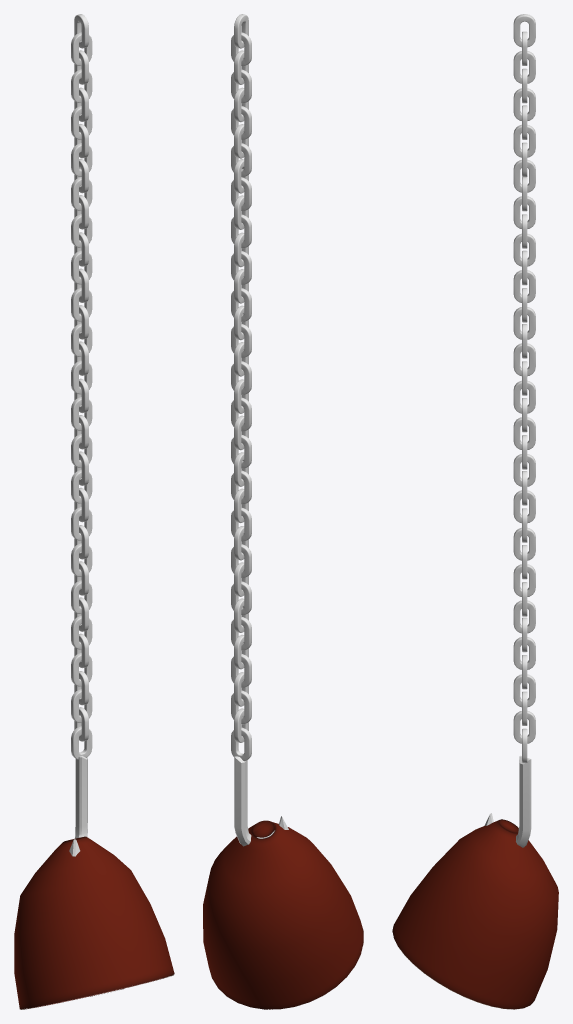
Rendered from hook_ham.fbx.
3 views of the same model, side by side, from view 1: azimuth 30°, elevation 25°; view 2: azimuth 150°, elevation 25°; view 3: azimuth 270°, elevation 25° (orthographic).
Visible parts, largest first — view 1: Cylinder.003, Cube.004, Cube.003; view 2: Cylinder.003, Cube.004, Cube.003; view 3: Cylinder.003, Cube.004, Cube.003.
Part boxes in pixels (x1,y1,x2,y2): Cylinder.003: (14, 836, 174, 1009); Cube.004: (71, 14, 92, 759); Cube.003: (69, 756, 87, 856); Cylinder.003: (203, 820, 363, 1009); Cube.004: (231, 14, 251, 761); Cube.003: (234, 756, 288, 846); Cylinder.003: (392, 819, 558, 1009); Cube.004: (513, 14, 535, 763); Cube.003: (484, 755, 531, 847).
Size of the model in its own units: 119 by 810 by 124.
